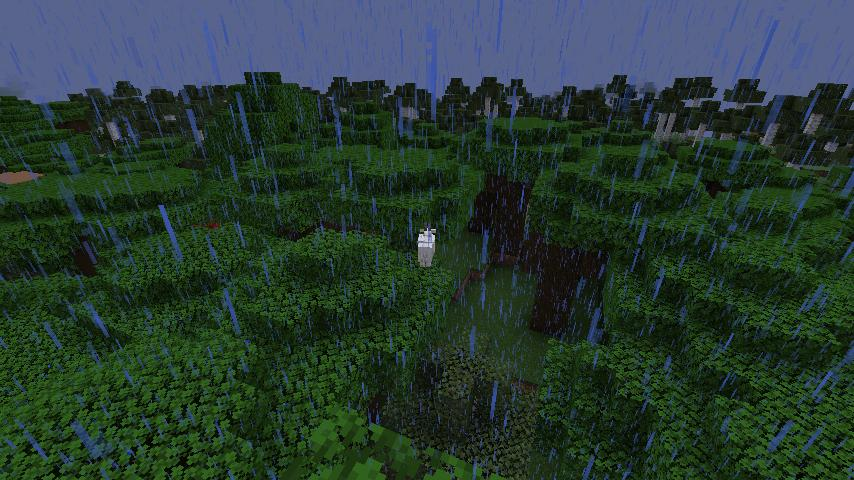goat: (417, 220, 438, 271)
